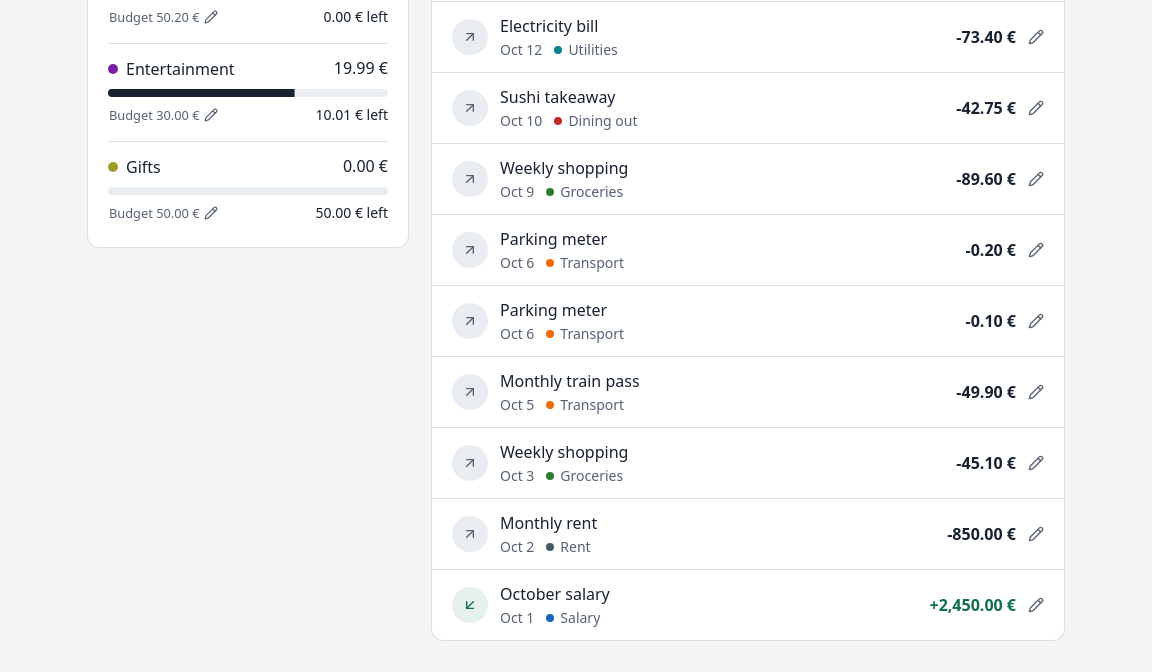
it: editing a transaction › saves the changes, and the summary updates
(page scrolled)
Click the button with aria-label "Edit transaction: Monthly rent," at coordinates (470, 534), box [432, 499, 1064, 569]
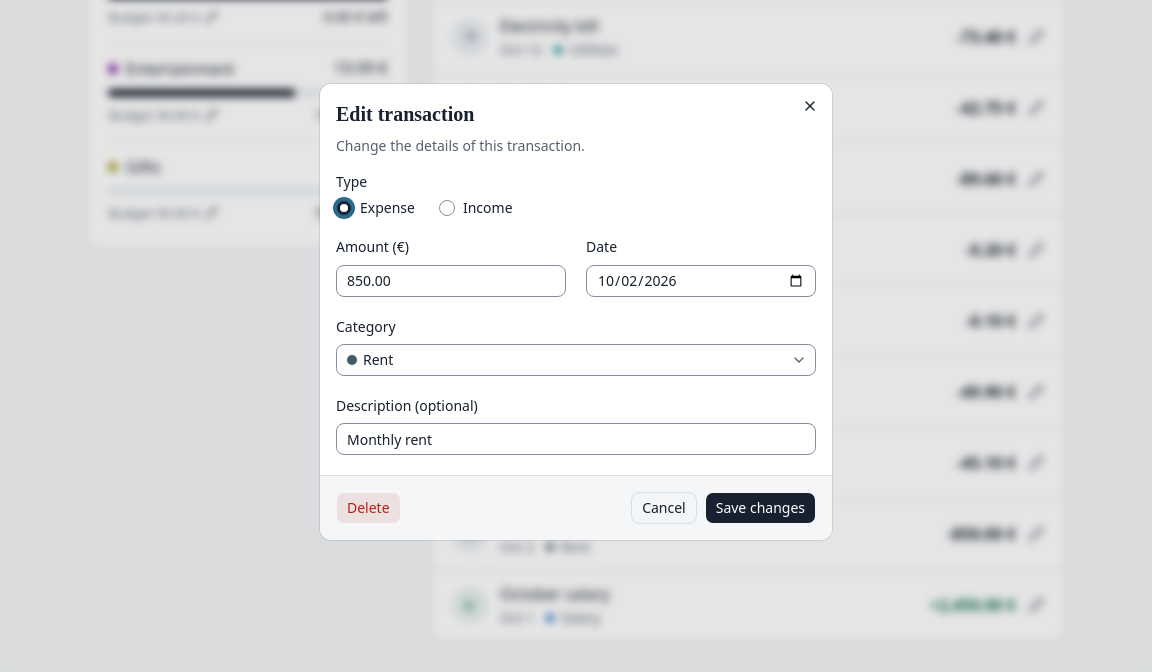
expect the field labelled "Amount (€)" holds "850.00": met
Replace the text in the field labelled "Amount (€)" with "900" at coordinates (451, 280), box [336, 264, 566, 296]
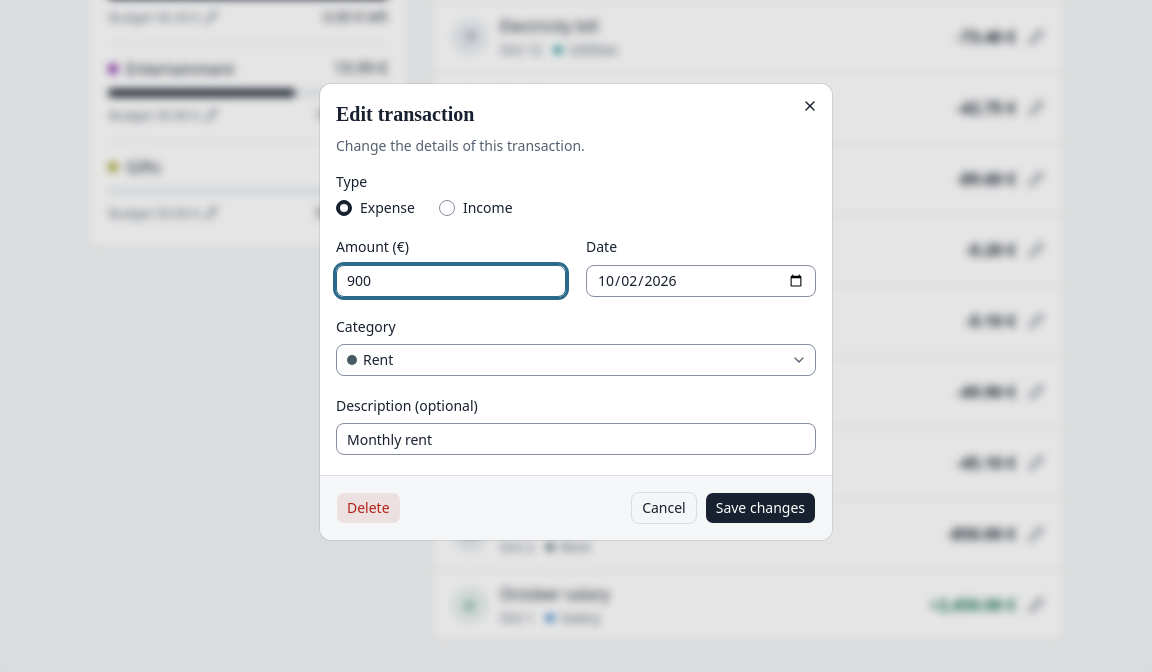
Click the button "Save changes" at coordinates (760, 508), box [705, 492, 816, 524]
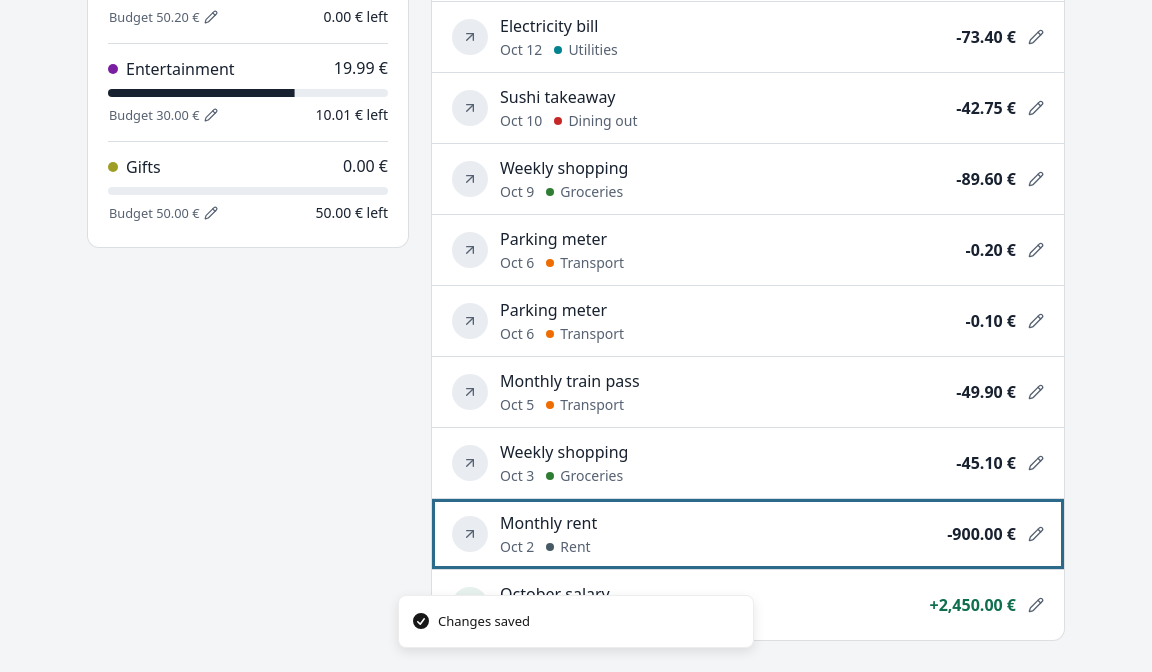
expect the text "Changes saved" is shown: met, box [438, 612, 530, 631]
expect the button with aria-label "Edit transaction: Monthly rent," shows "-900.00 €": met, box [432, 499, 1064, 569]
